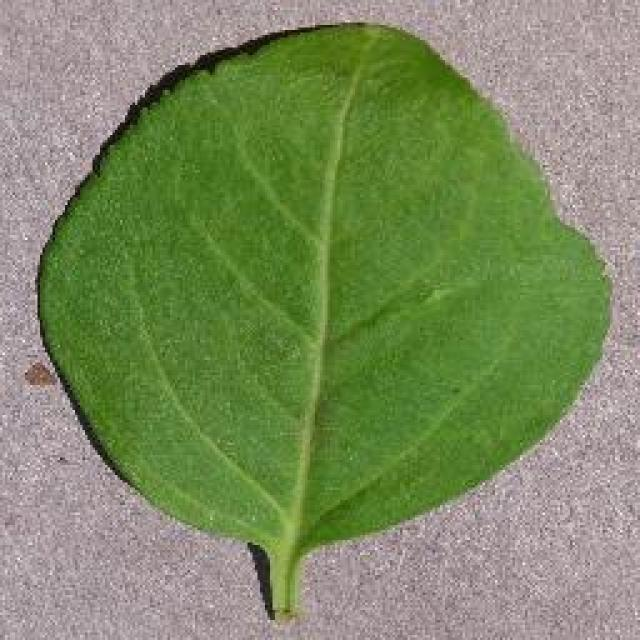Cher_including_sour_healthy: (59, 61, 606, 510)
